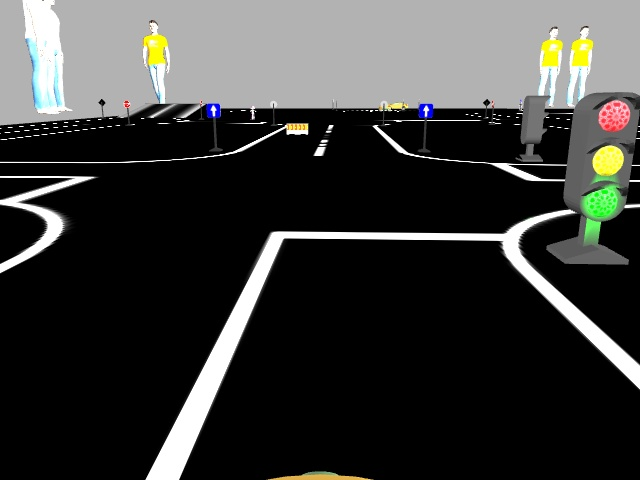ClosedRoadStand: (285, 123, 307, 134)
OneWay: (418, 103, 431, 118), (207, 102, 219, 116)
TrafficLight: (565, 87, 632, 222)
